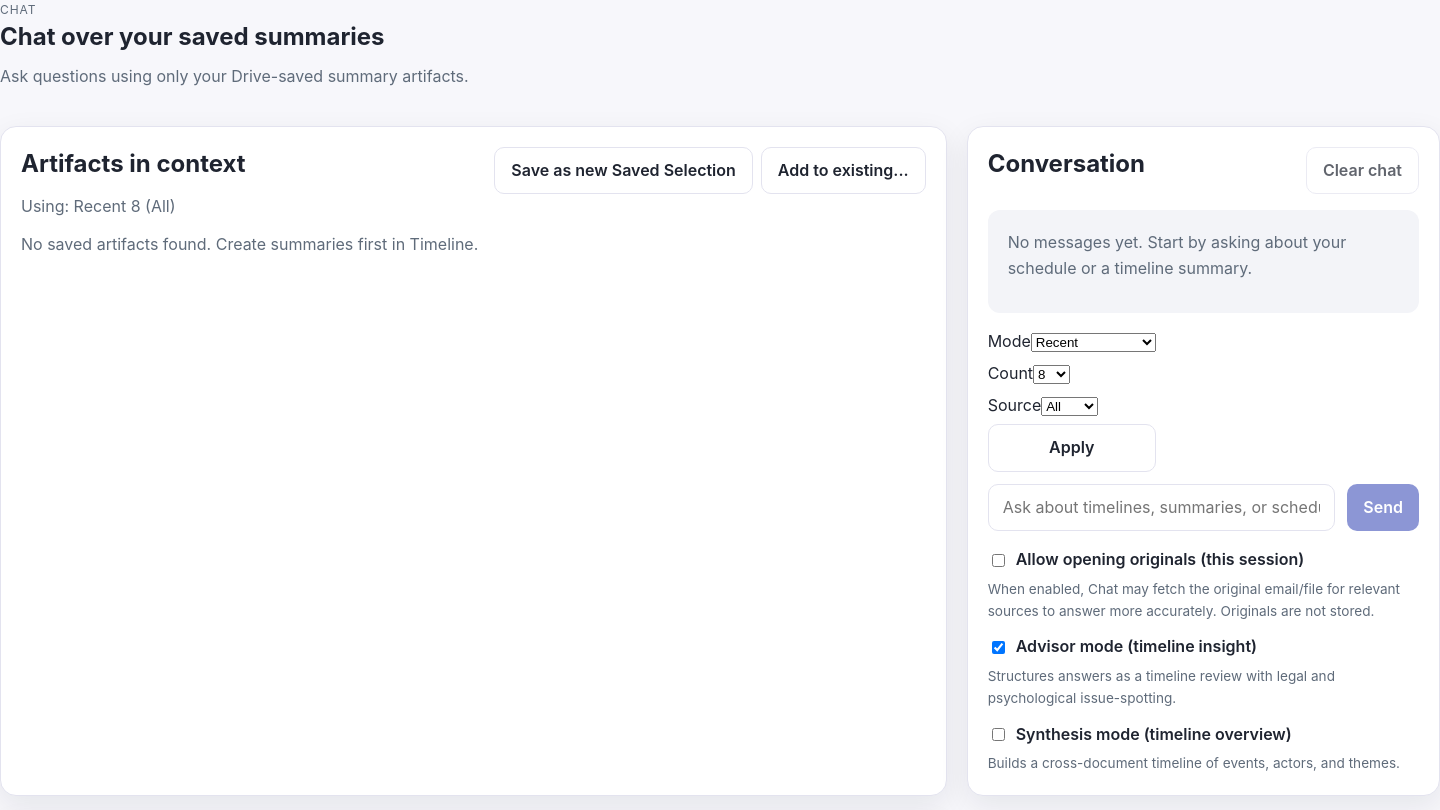
it: ChatPageClient › clears chat history and localStorage
Type "Clear this" into the field named "chat input" at [1162, 508], box [988,484,1335,531]
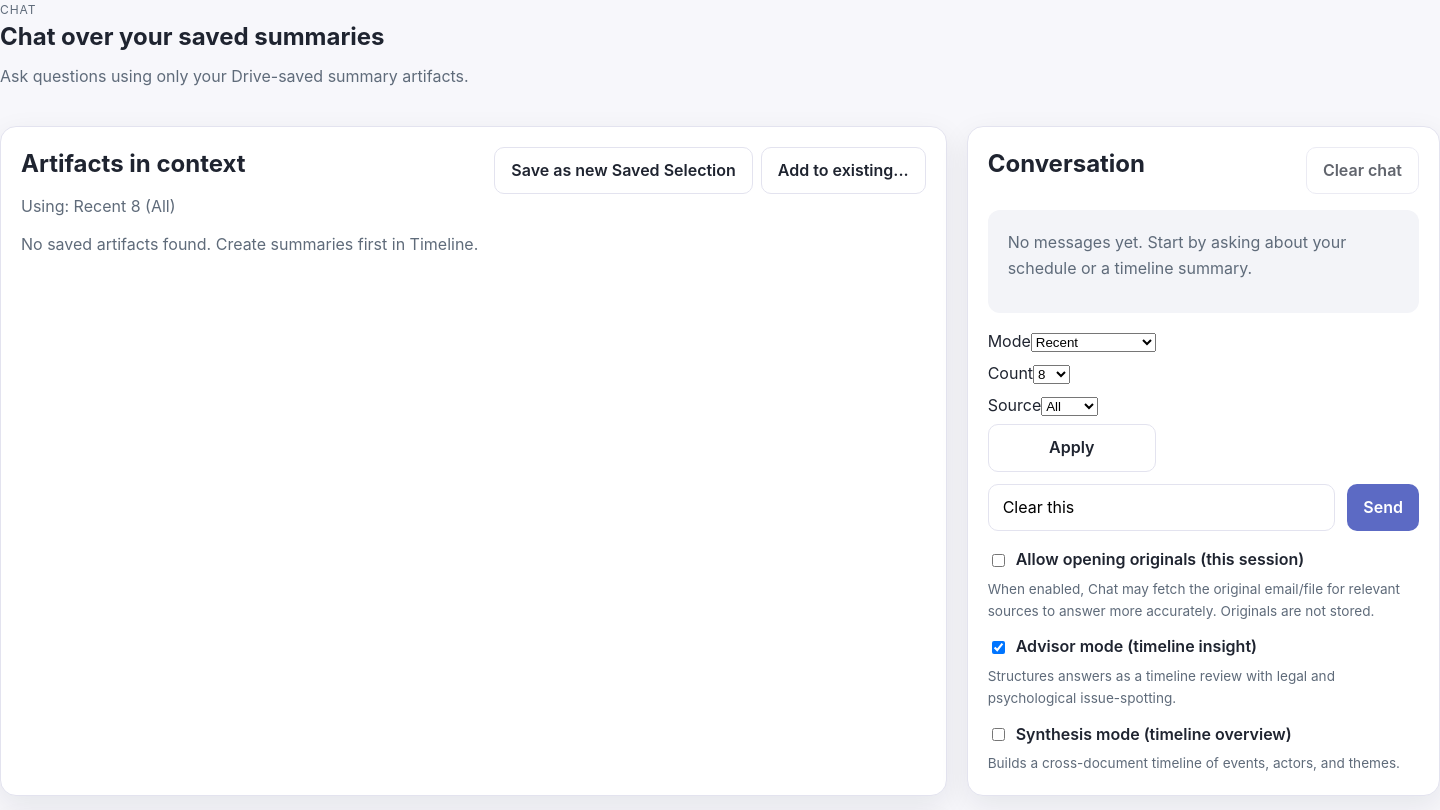
Click the button "Send" at [1383, 508], box [1347,484,1419,531]
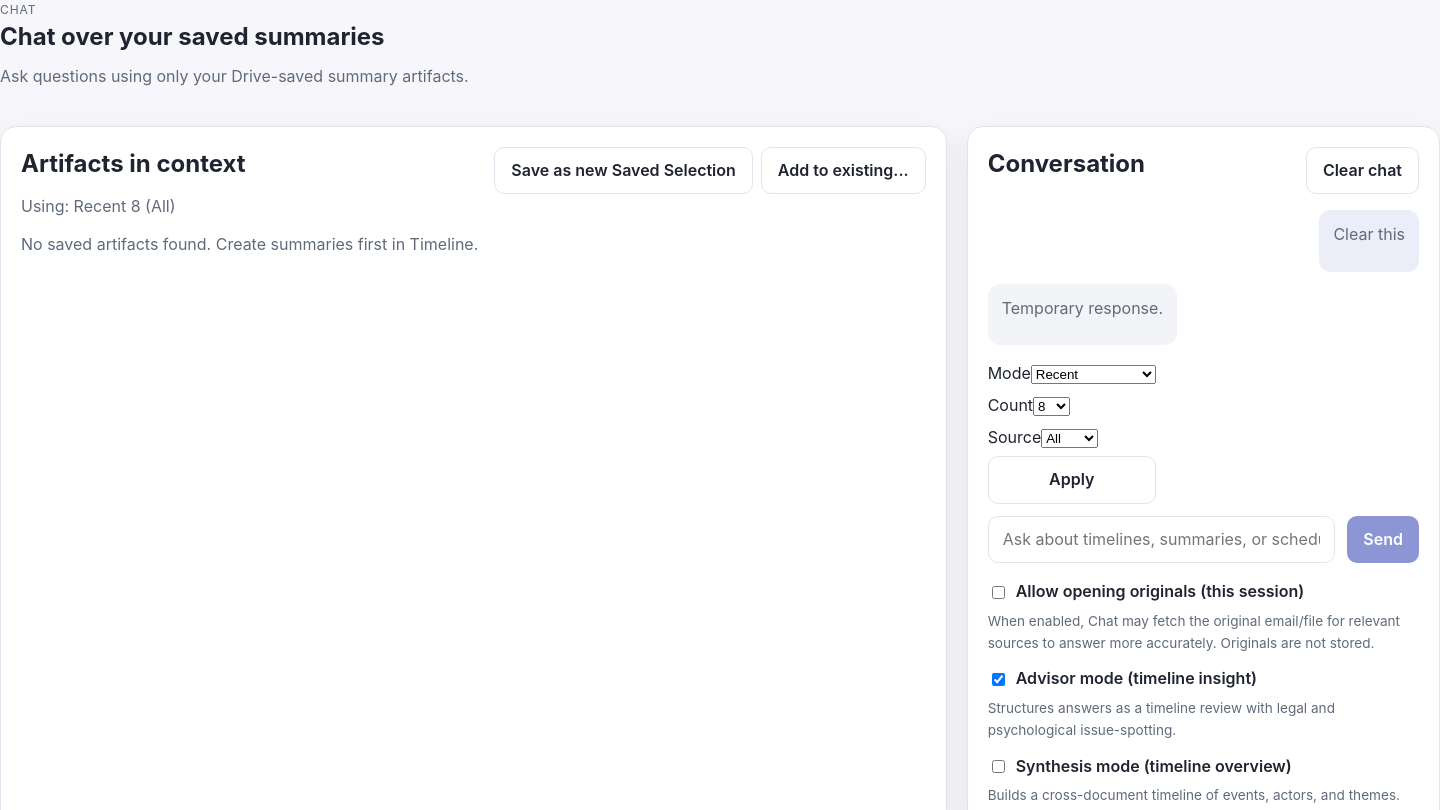
Result: the text "Temporary response." is shown at [1002,296,1163,321]
Click the button "Clear chat" at [1362, 170], box [1306,147,1419,194]
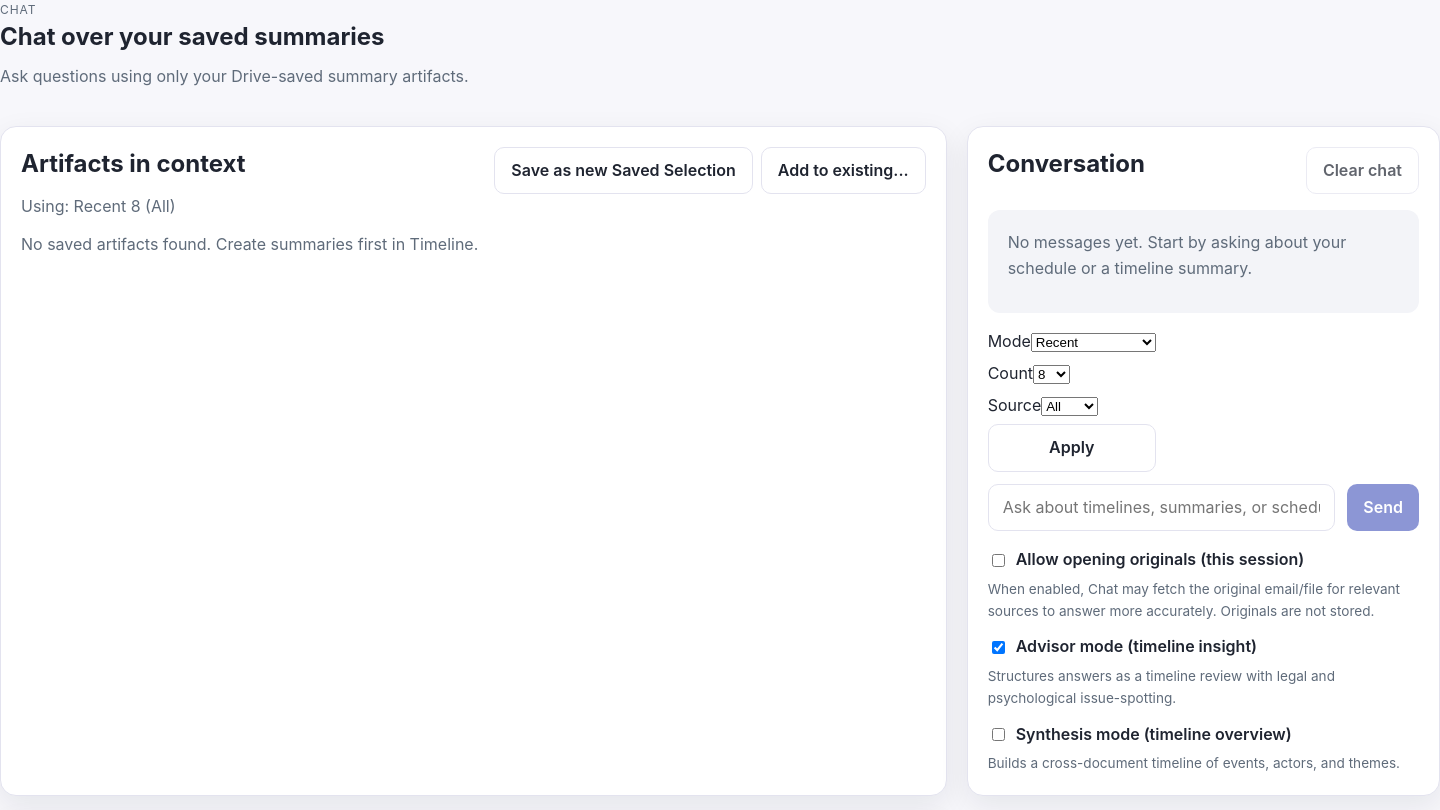
Result: the text "Temporary response" is gone
